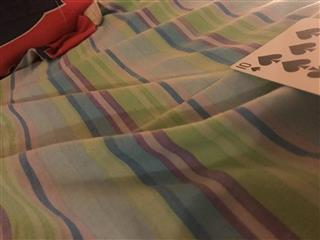TenOfSpades: (229, 16, 320, 96)
